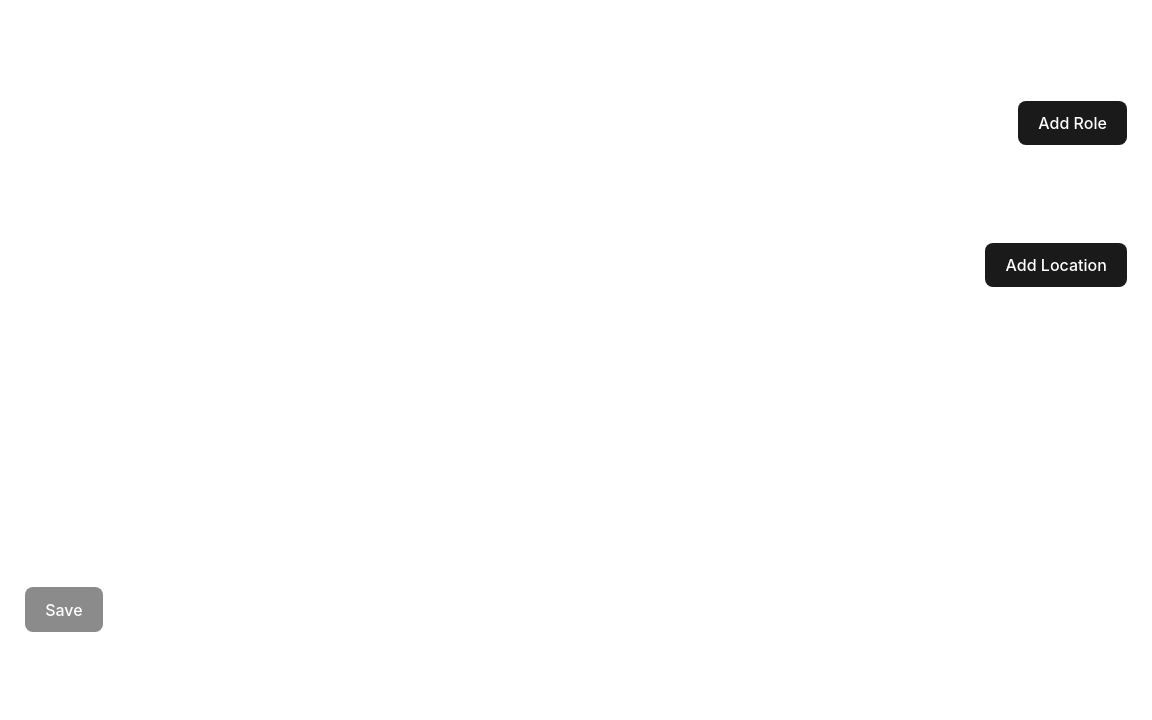
Test: CareerPreferencesSection › shows validation error for blank target role
This screenshot has width=1152, height=720.
Click the button "Add Role": (1073, 123) [1018,101,1127,145]
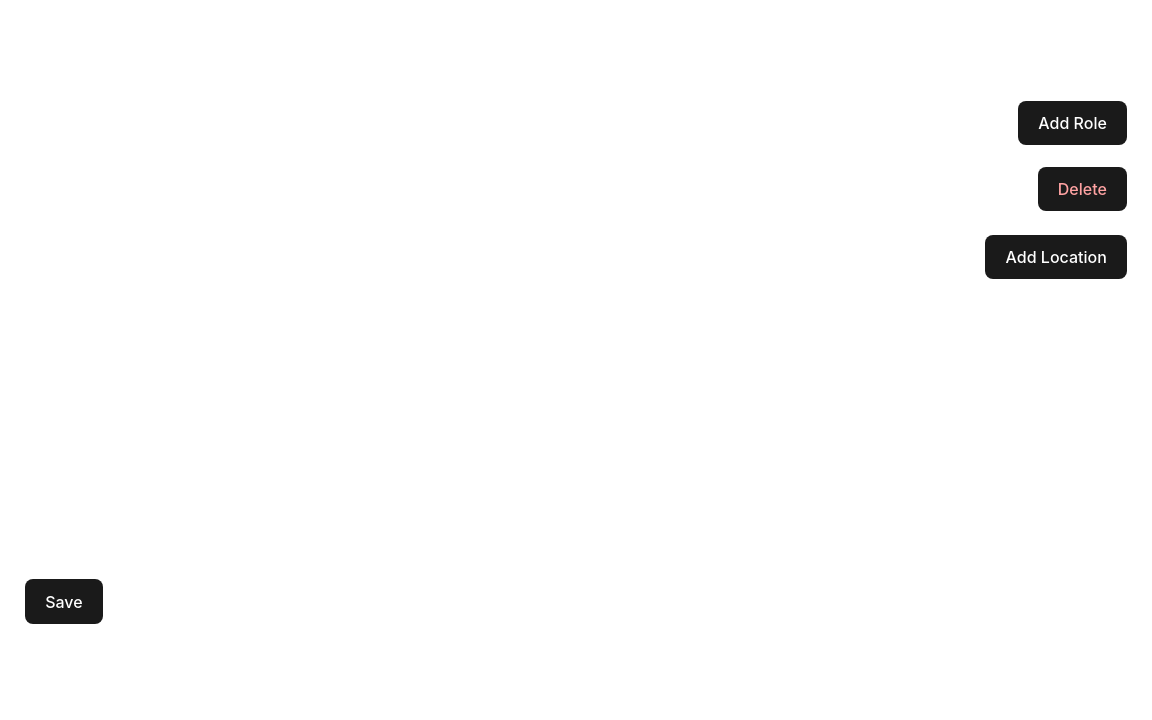
Click the button "Save": (64, 602) [25,579,103,624]
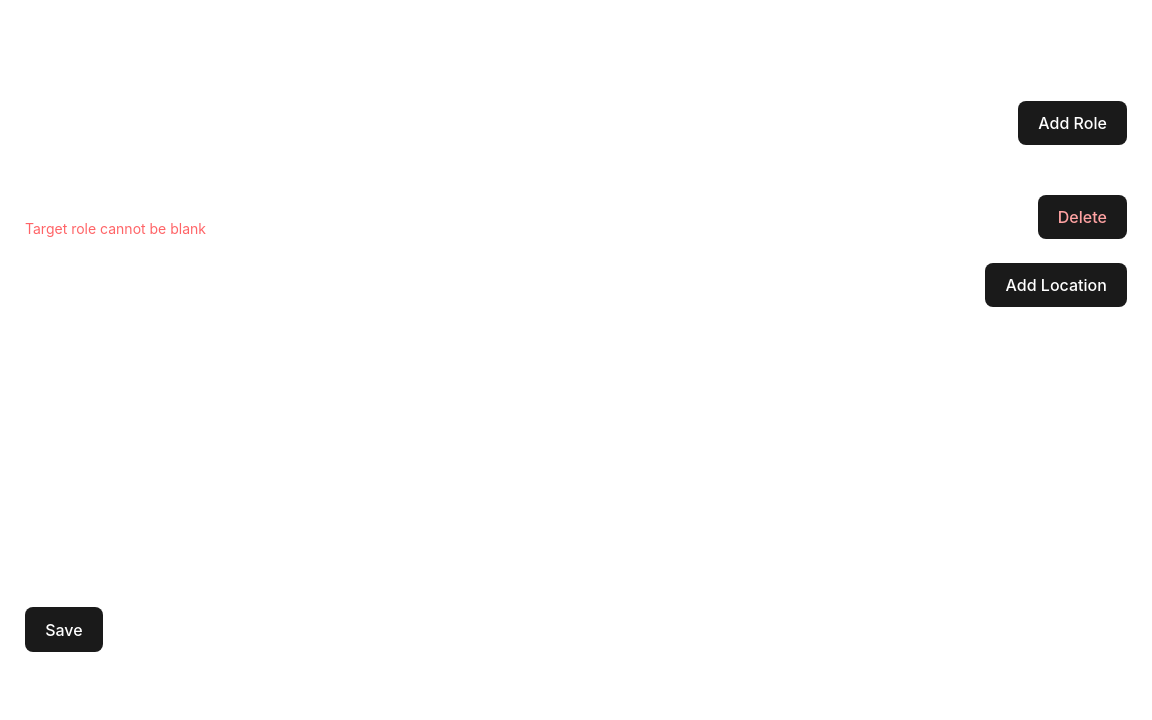
Check: the text "Target role cannot be blank" is shown, box [25,220,206,237]
